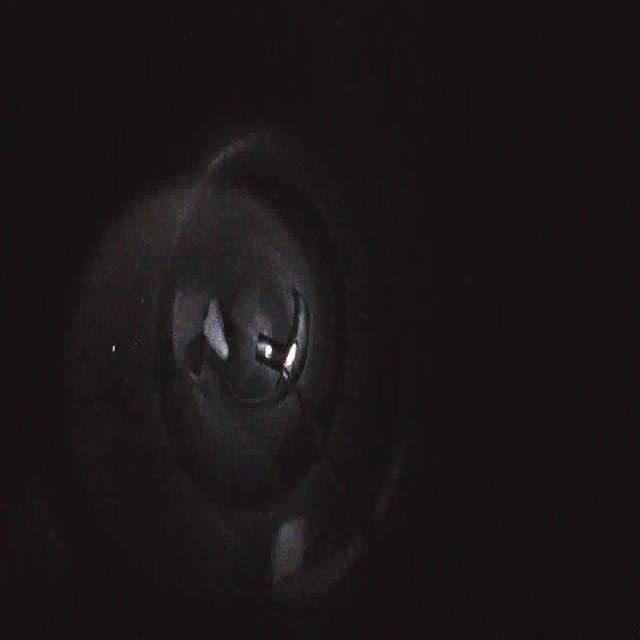impurity: (199, 286, 231, 364)
